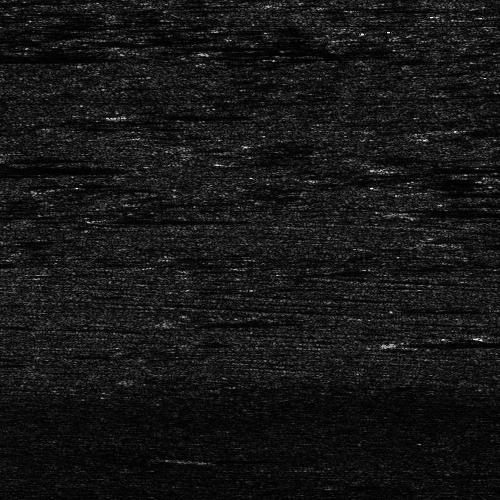object: (101, 111, 184, 118), (420, 125, 483, 134)
shadow: (0, 47, 83, 64), (143, 111, 258, 118), (0, 165, 144, 170), (451, 125, 500, 134), (0, 124, 26, 137)
